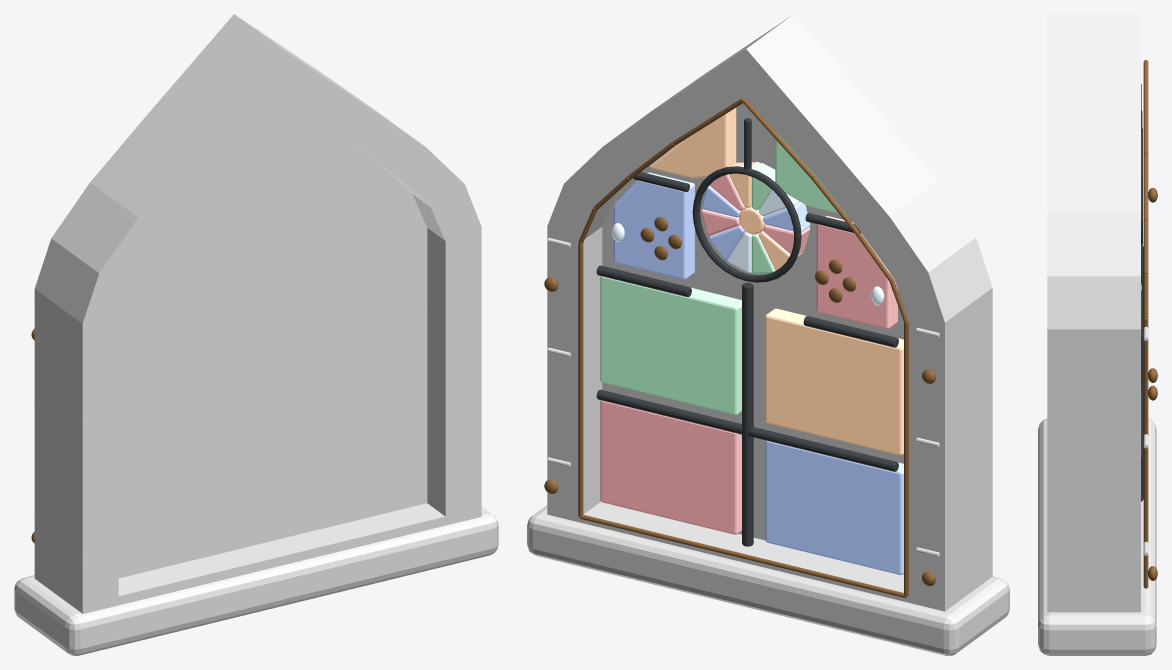
The model's file is vitral_templo.glb.
The picture shows the model from 3 angles, left to right: view 1: azimuth 30°, elevation 25°; view 2: azimuth 150°, elevation 25°; view 3: azimuth 270°, elevation 25°; orthographic projection. The views are drawn at different scales.
Visible parts, largest first — view 1: Stained glass - shadowed glass bed, Stained glass - warm carved limestone, Stained glass - limestone highlights; view 2: Stained glass - warm carved limestone, Stained glass - sapphire blue glass, Stained glass - limestone highlights, Stained glass - ruby red glass, Stained glass - amber gold glass, Stained glass - emerald green glass, Stained glass - shadowed glass bed, Stained glass - dark hammered lead, Stained glass - aged bronze fittings, Stained glass - pale opal glass; view 3: Stained glass - warm carved limestone, Stained glass - limestone highlights, Stained glass - aged bronze fittings, Stained glass - dark hammered lead.
Boxes of the visible parts, <box> form: Stained glass - shadowed glass bed: <box>118,98,427,578</box>; Stained glass - warm carved limestone: <box>34,14,481,613</box>; Stained glass - limestone highlights: <box>14,296,498,655</box>; Stained glass - warm carved limestone: <box>547,14,992,611</box>; Stained glass - sapphire blue glass: <box>613,172,903,574</box>; Stained glass - limestone highlights: <box>527,238,1009,655</box>; Stained glass - ruby red glass: <box>600,174,897,534</box>; Stained glass - amber gold glass: <box>649,108,903,455</box>; Stained glass - emerald green glass: <box>600,131,847,415</box>; Stained glass - shadowed glass bed: <box>602,98,908,574</box>; Stained glass - dark hammered lead: <box>596,118,898,546</box>; Stained glass - aged bronze fittings: <box>544,98,935,598</box>; Stained glass - pale opal glass: <box>612,189,884,305</box>; Stained glass - warm carved limestone: <box>1047,14,1140,612</box>; Stained glass - limestone highlights: <box>1038,326,1156,655</box>; Stained glass - aged bronze fittings: <box>1143,60,1157,588</box>; Stained glass - dark hammered lead: <box>1141,84,1143,501</box>.
Size of the model in its own units: 0.78 by 0.96 by 0.192.
